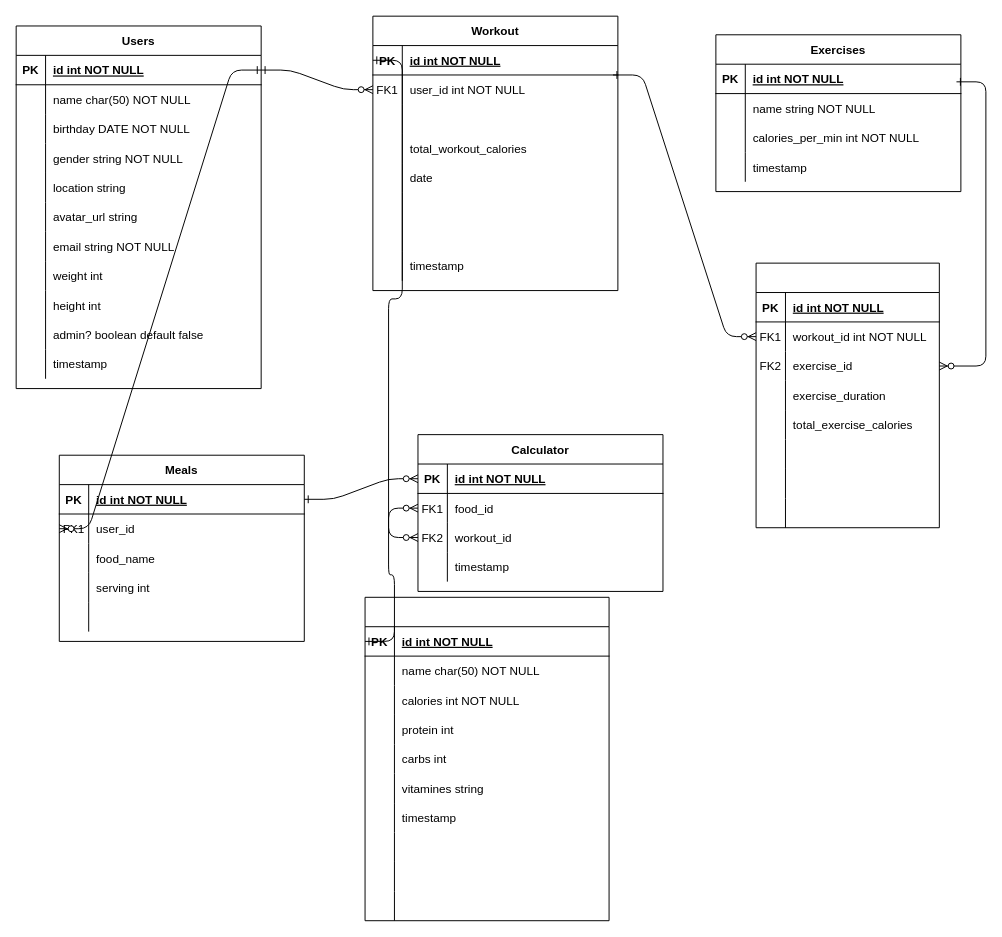
The diagram is 1002 pixels wide and 937 high, and some of its shapes have lost their labels. The box of each missing label's shape, as (x1, y1, x2, y2) in pixels:
Food (REMOTE API): (364, 596, 609, 921)
LineExercises: (755, 262, 939, 528)
